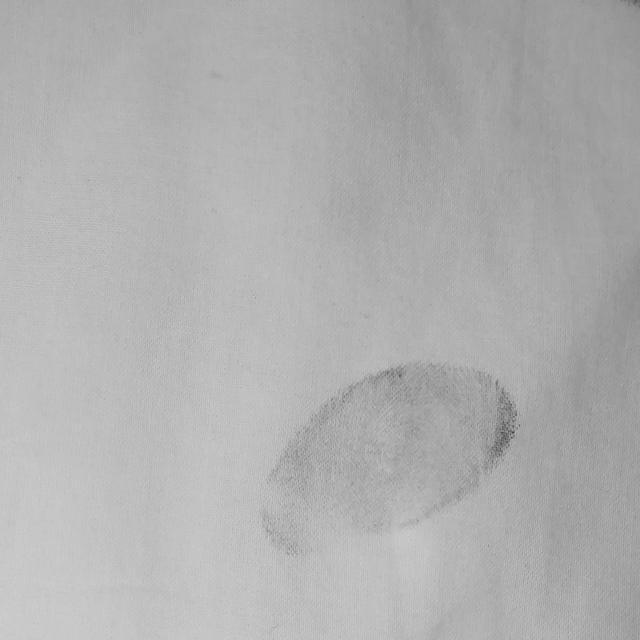Stain: (262, 363, 517, 555)
